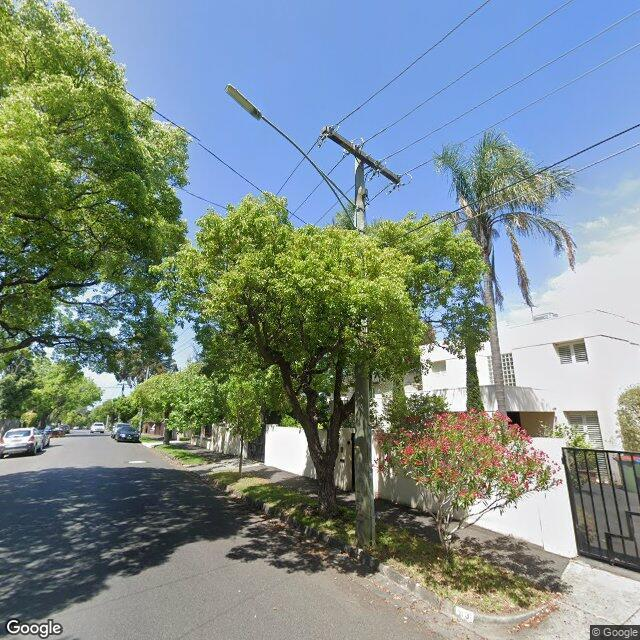crossarm: (318, 124, 412, 194)
streetlight: (224, 83, 357, 228)
timber-pole: (356, 159, 376, 550)
